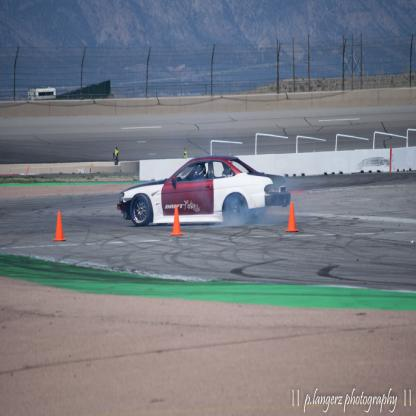Car: (118, 156, 293, 230)
